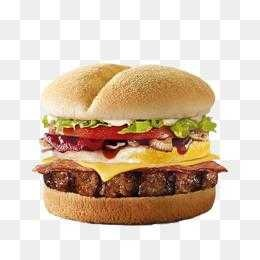hamburger: (38, 61, 222, 222)
